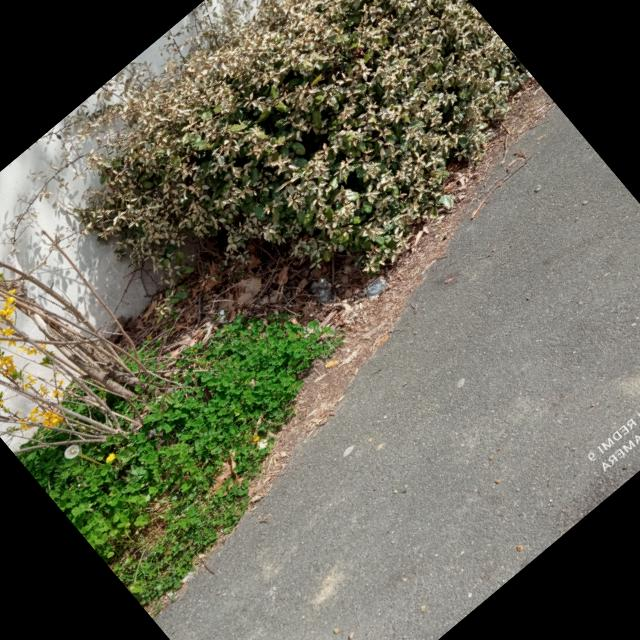Lid: (362, 274, 390, 300), (320, 334, 334, 349)
Other plastic: (344, 311, 346, 313)
Plastic film: (303, 270, 340, 308)
